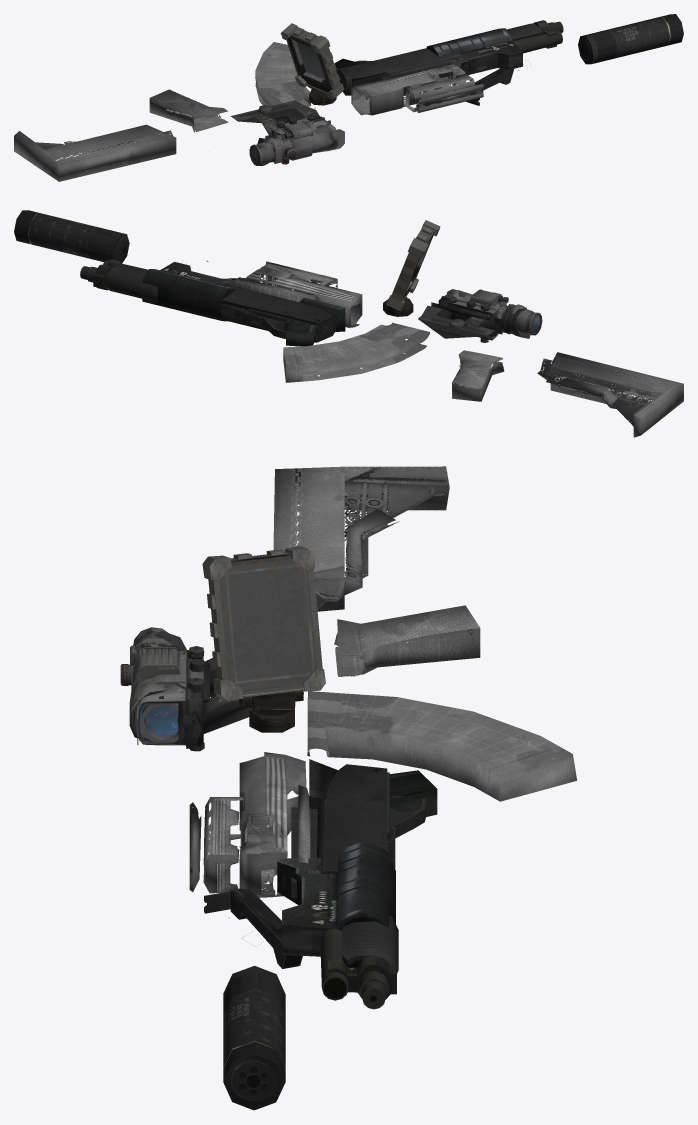
Rendered from weapon_ak47_tactical_blue_tiger_LOD0.obj.
The picture shows the model from 3 angles, top to bottom: view 1: azimuth 30°, elevation 25°; view 2: azimuth 150°, elevation 25°; view 3: azimuth 270°, elevation 25°; orthographic projection. The views are drawn at different scales.
Parts seen in each view (by area): view 1: mtl_weapon_ak47_tactical_blue_tiger, mtl_weapon_ak47_grenadier, mtl_weapon_shotgun_masterkey, mtl_weapon_suppressor_b, mtl_weapon_motion_tracker, mtl_weapon_acog_2_blue_tiger, mtl_weapon_ris_mount_a, mtl_weapon_thermal_sight_2_blue_tiger, mtl_weapon_eotech_2_blue_tiger, mtl_weapon_red_dot_sight_blue_tiger; view 2: mtl_weapon_ak47_tactical_blue_tiger, mtl_weapon_ak47_grenadier, mtl_weapon_shotgun_masterkey, mtl_weapon_suppressor_b, mtl_weapon_motion_tracker, mtl_weapon_ris_mount_a, mtl_weapon_thermal_sight_2_blue_tiger, mtl_weapon_acog_2_blue_tiger, mtl_weapon_eotech_2_blue_tiger, mtl_weapon_red_dot_sight_blue_tiger; view 3: mtl_weapon_ak47_tactical_blue_tiger, mtl_weapon_motion_tracker, mtl_weapon_ak47_grenadier, mtl_weapon_shotgun_masterkey, mtl_weapon_suppressor_b, mtl_weapon_thermal_sight_2_blue_tiger, mtl_weapon_red_dot_sight_blue_tiger, mtl_weapon_acog_2_blue_tiger, mtl_weapon_ris_mount_a, mtl_weapon_reflex_lens.
Part boxes in pixels (x1,y1,x2,y2): mtl_weapon_ak47_tactical_blue_tiger: (14,42,526,181); mtl_weapon_ak47_grenadier: (334,28,522,105); mtl_weapon_shotgun_masterkey: (338,20,563,95); mtl_weapon_suppressor_b: (578,14,683,64); mtl_weapon_motion_tracker: (280,23,344,105); mtl_weapon_acog_2_blue_tiger: (249,115,338,165); mtl_weapon_ris_mount_a: (231,100,330,138); mtl_weapon_thermal_sight_2_blue_tiger: (257,117,344,165); mtl_weapon_eotech_2_blue_tiger: (270,118,313,160); mtl_weapon_red_dot_sight_blue_tiger: (271,112,337,151); mtl_weapon_ak47_tactical_blue_tiger: (206,260,683,437); mtl_weapon_ak47_grenadier: (142,262,345,346); mtl_weapon_shotgun_masterkey: (80,259,336,342); mtl_weapon_suppressor_b: (14,210,129,263); mtl_weapon_motion_tracker: (383,220,440,316); mtl_weapon_ris_mount_a: (418,302,502,338); mtl_weapon_thermal_sight_2_blue_tiger: (447,289,530,338); mtl_weapon_acog_2_blue_tiger: (442,290,542,335); mtl_weapon_eotech_2_blue_tiger: (441,299,500,340); mtl_weapon_red_dot_sight_blue_tiger: (438,289,497,342); mtl_weapon_ak47_tactical_blue_tiger: (189,466,576,946); mtl_weapon_motion_tracker: (202,546,325,732); mtl_weapon_ak47_grenadier: (204,759,437,968); mtl_weapon_shotgun_masterkey: (291,764,426,1009); mtl_weapon_suppressor_b: (223,965,285,1110); mtl_weapon_thermal_sight_2_blue_tiger: (136,631,206,745); mtl_weapon_red_dot_sight_blue_tiger: (135,646,204,751); mtl_weapon_acog_2_blue_tiger: (120,627,204,737); mtl_weapon_ris_mount_a: (192,658,249,743); mtl_weapon_reflex_lens: (139,703,178,738).
Size of the model in its own units: 103 by 18.25 by 33.27.
